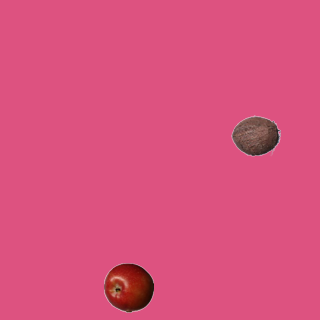Apple Braeburn: (103, 262, 153, 312)
Cocos: (230, 110, 280, 160)
